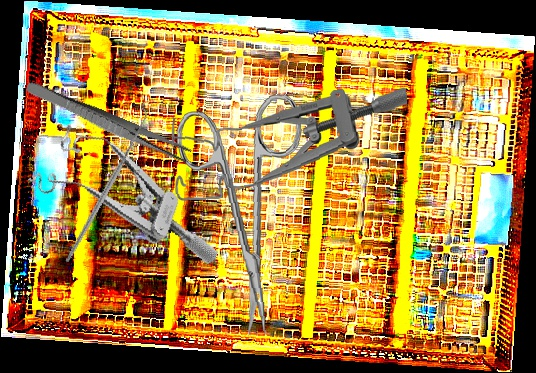Dressing Forceps: (23, 79, 193, 165)
Hook Surgical: (17, 106, 193, 264)
Iris Scissors: (173, 93, 317, 340)
Speculum: (21, 116, 242, 267), (169, 85, 412, 202)
